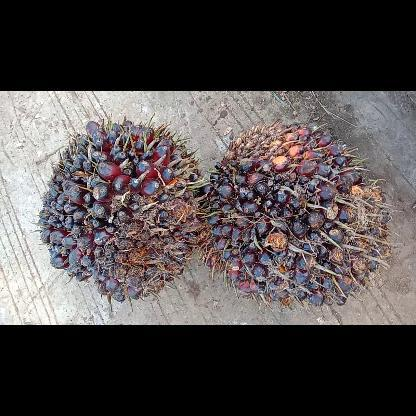TBS mentah: (204, 122, 390, 306), (38, 120, 202, 302)
